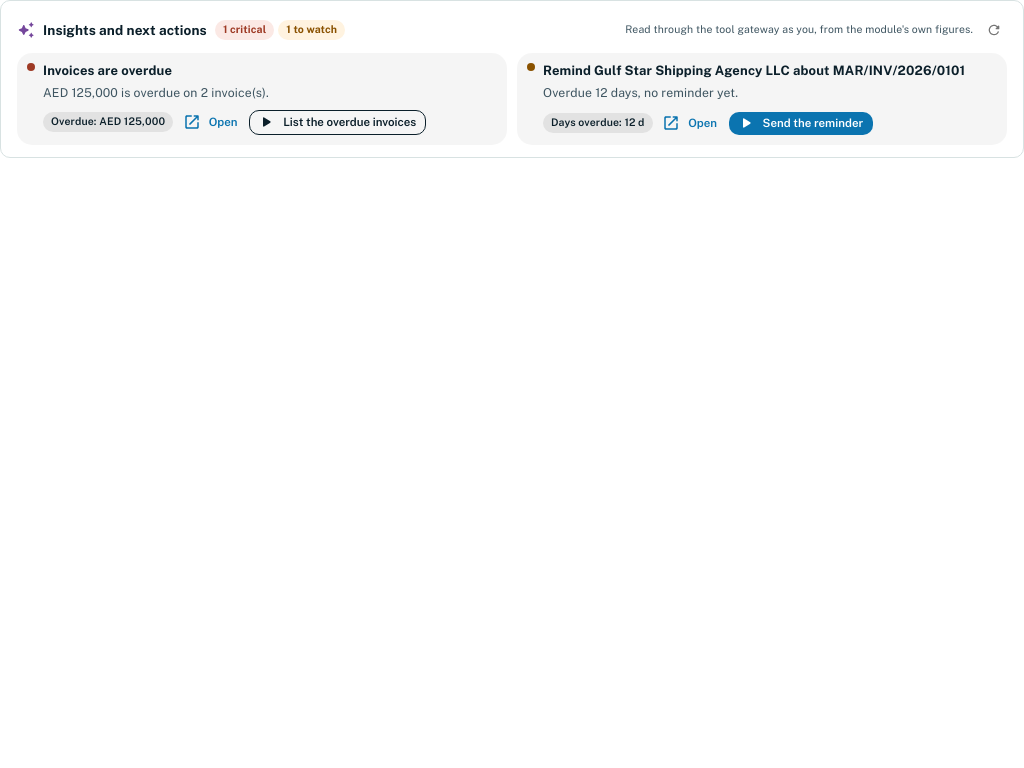
Scenario: insights and next actions › runs a read action through the agent service and shows the rows it returned
Click the button with test id "insight-action-finance.overdue".
click(338, 122)  # box [249,110,426,135]
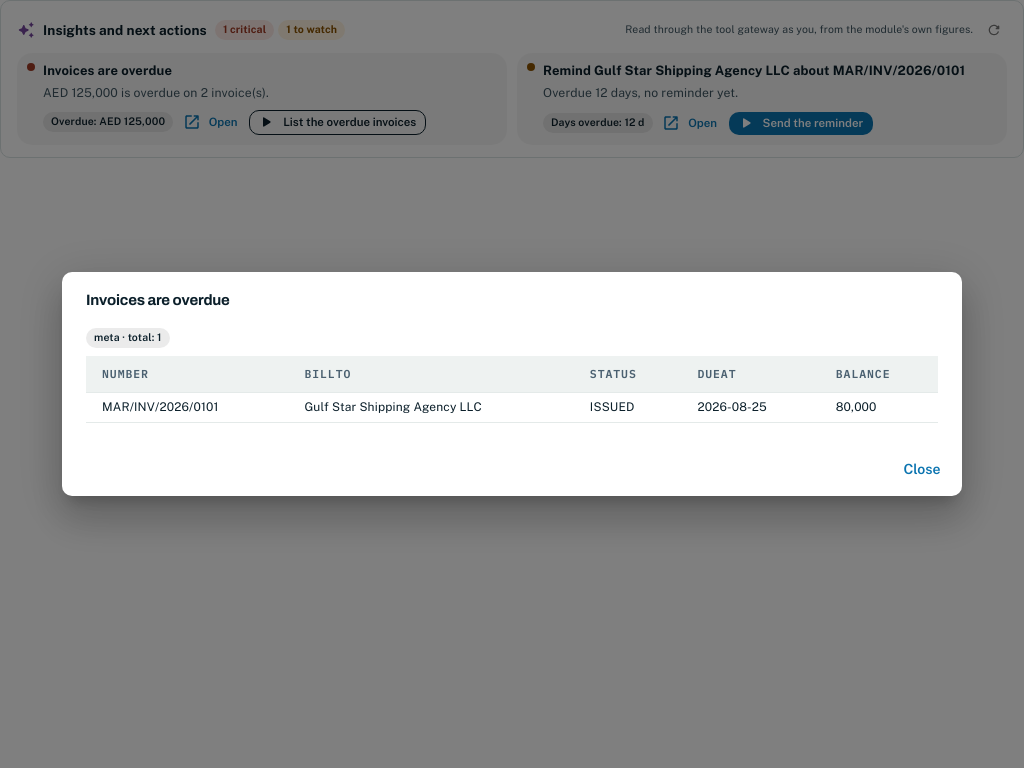
Result: the text "MAR/INV/2026/0101" is shown at [86,393,288,423]
